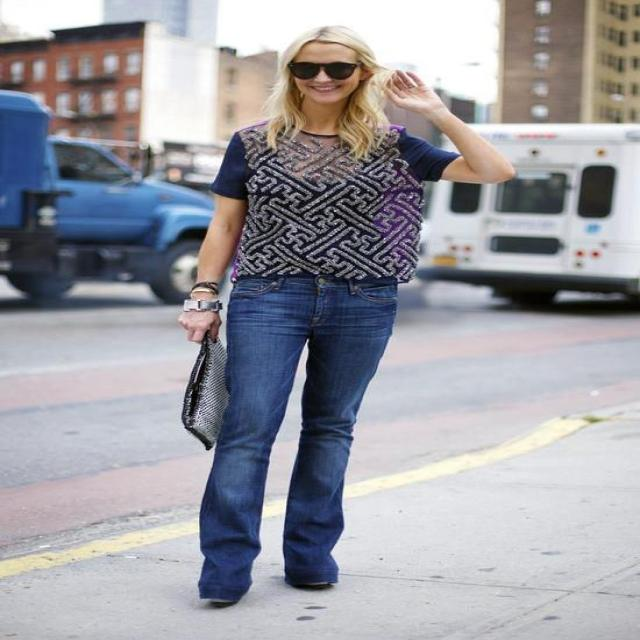Tshirt: (214, 111, 461, 285)
pants: (198, 278, 400, 602)
